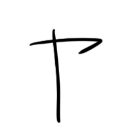ya: (26, 25, 105, 125)
